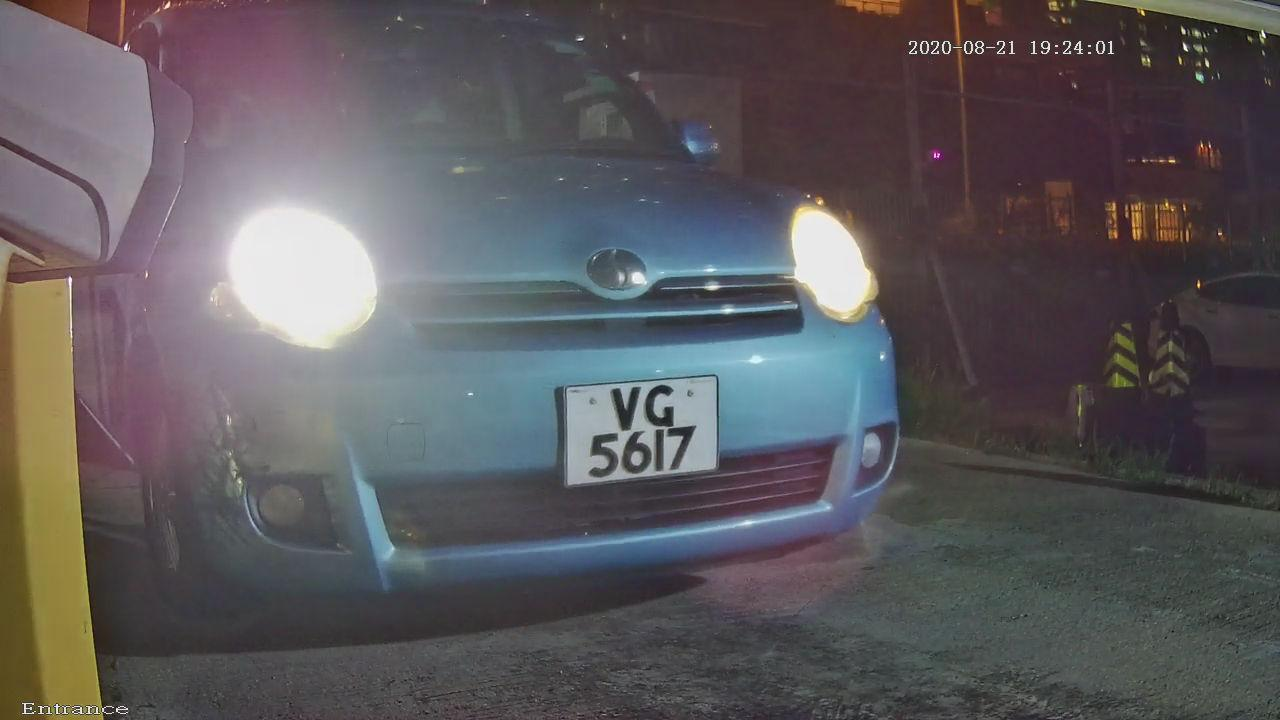Car: (6, 13, 972, 656)
License Plate: (549, 364, 732, 499)
